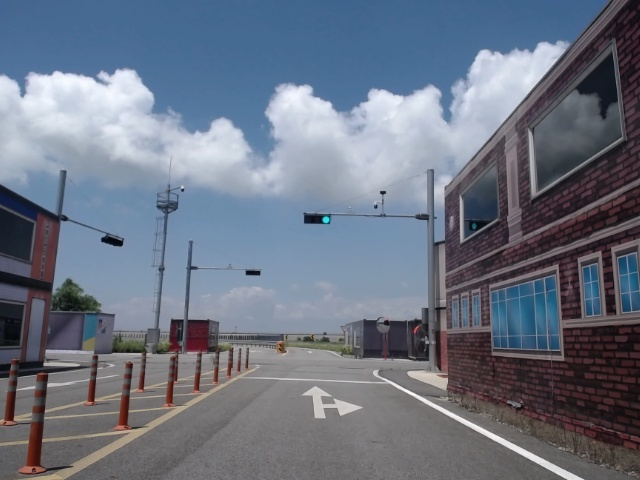green_3: (304, 215, 329, 224)
